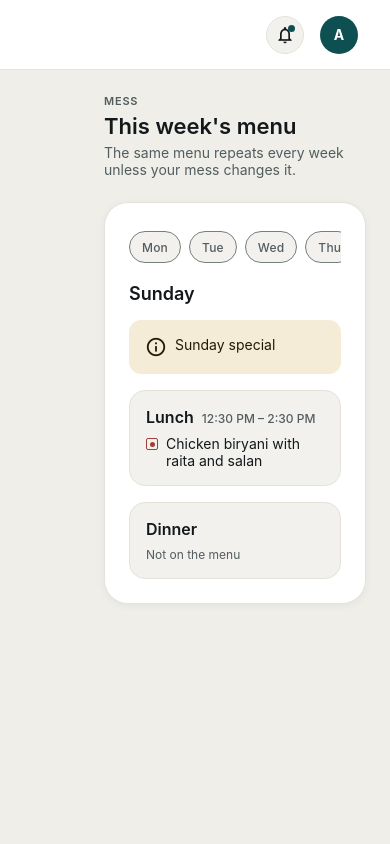
Test: TenantMessScreen › switches to another day
Expected: the text "Sunday special" is shown, [175, 336, 275, 353]
Click the button "Tue" at {"x": 213, "y": 247}, box [189, 231, 237, 263]
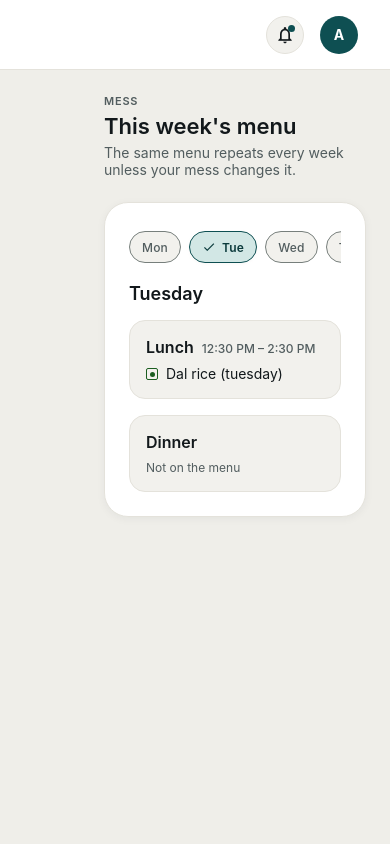
Result: the text "Dal rice (tuesday)" is shown at [166, 365, 283, 382]
Result: the text "Sunday special" is gone
